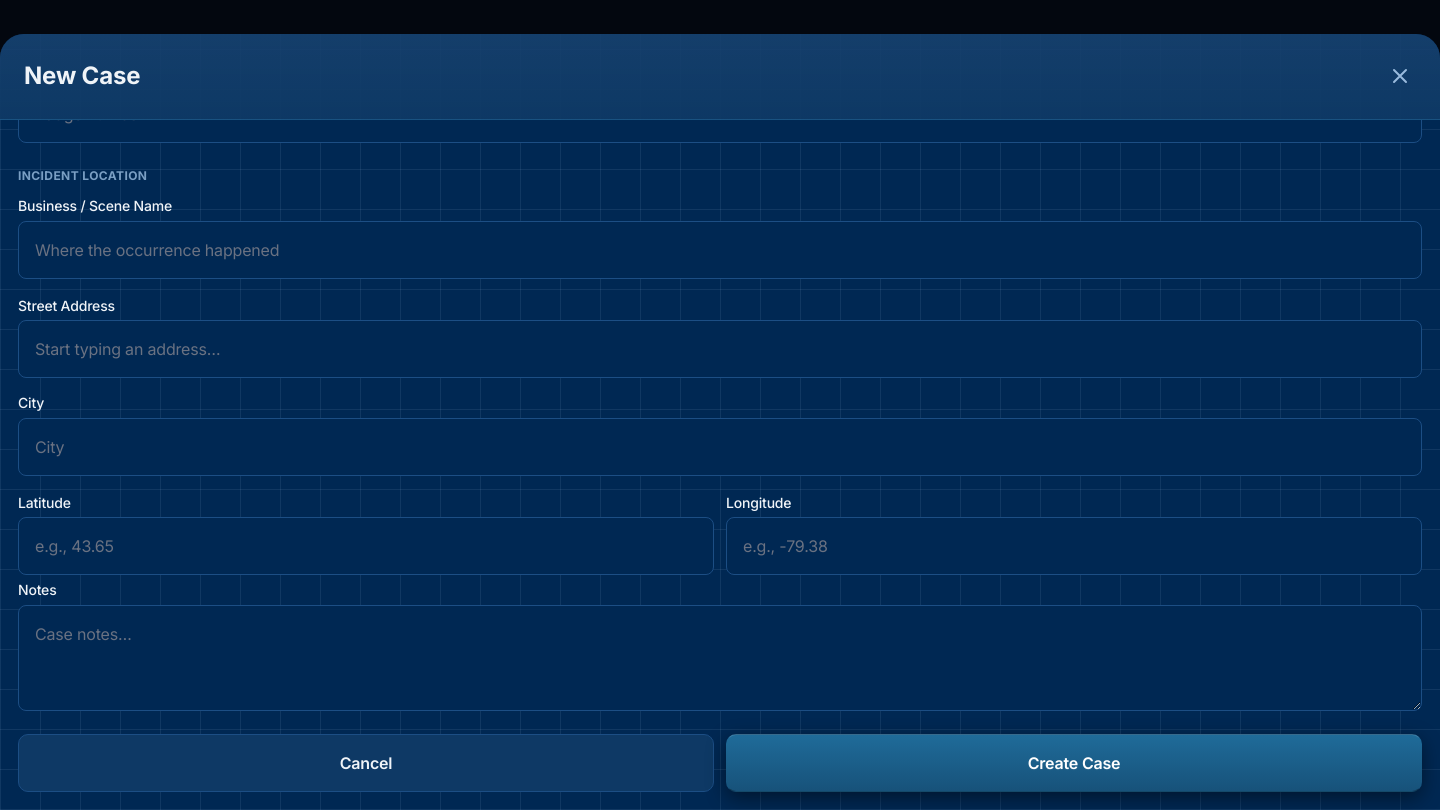
NewCaseModal — confirm on create › a valid submit raises the confirmation instead of creating
(page scrolled)
Click the button "Create Case".
click(1074, 763)  # box [726,734,1422,792]
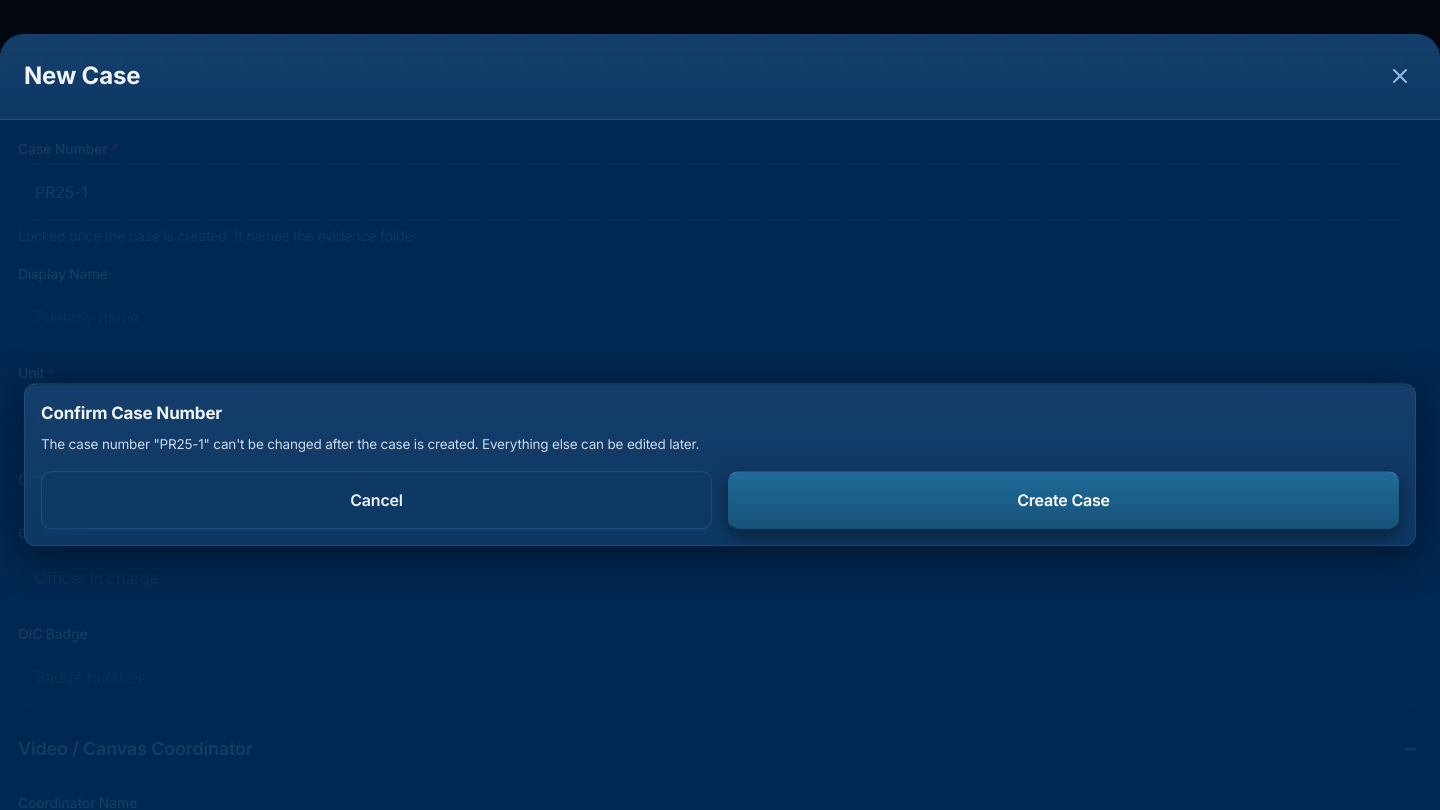
Now the dialog is shown, box [24,383,1416,547]
